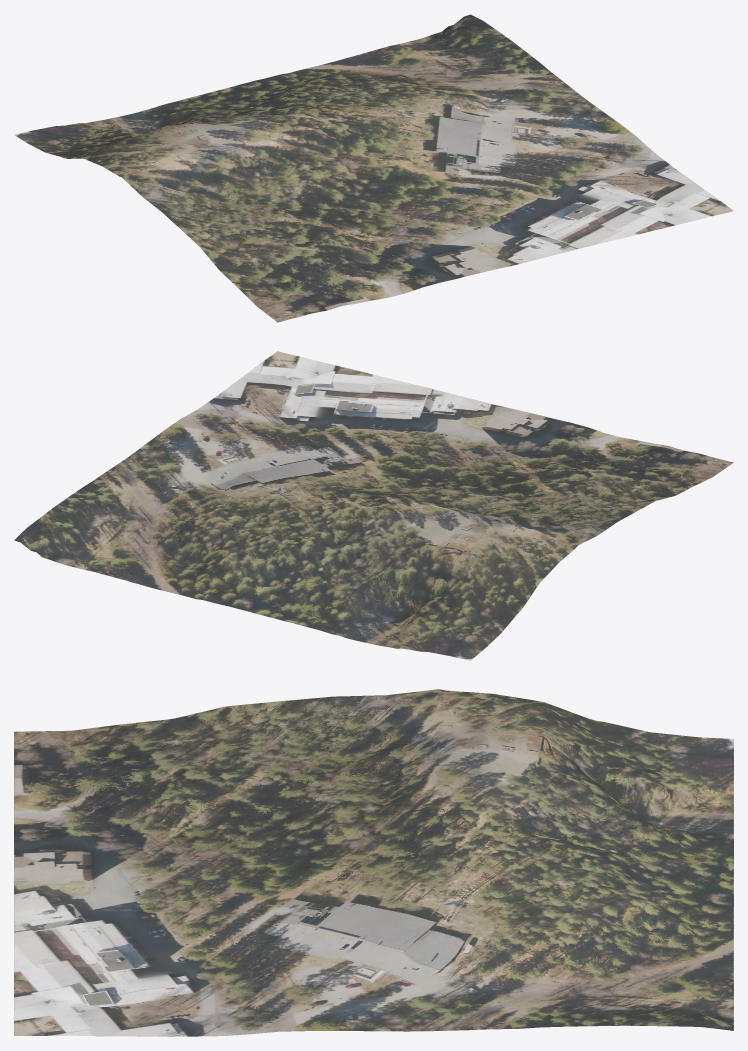
Rendered from CM_Terrain_24488615_6822251.fbx.
3 views of the same model, one above another, from view 1: azimuth 30°, elevation 25°; view 2: azimuth 150°, elevation 25°; view 3: azimuth 270°, elevation 25° (orthographic). The views are drawn at different scales.
Visible parts, largest first — view 1: CM_Terrain_24488615_6822251_LOD0; view 2: CM_Terrain_24488615_6822251_LOD0; view 3: CM_Terrain_24488615_6822251_LOD0.
Boxes of the visible parts, x1,y1,x2,y2 form: CM_Terrain_24488615_6822251_LOD0: (14, 14, 733, 322); CM_Terrain_24488615_6822251_LOD0: (14, 351, 733, 660); CM_Terrain_24488615_6822251_LOD0: (14, 689, 733, 1036).
Size of what is drawn, in the model's own units: 205 by 21.48 by 205.
